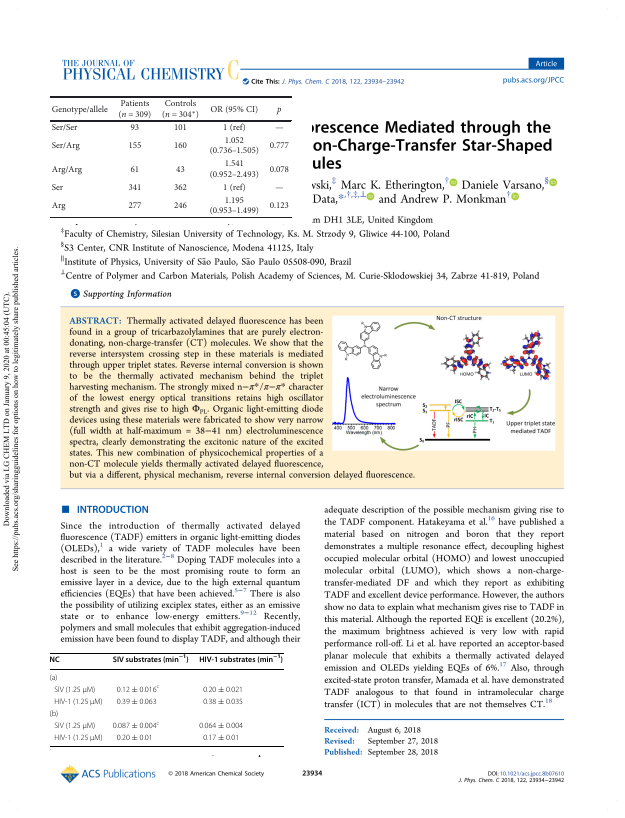borderless: (50, 95, 292, 218), (48, 651, 284, 746)
cell: (208, 136, 259, 157), (208, 159, 259, 180), (208, 196, 259, 217), (198, 654, 284, 664), (161, 99, 200, 120), (112, 654, 190, 664), (117, 99, 152, 120), (50, 104, 108, 115), (209, 104, 259, 115), (112, 720, 160, 731), (53, 697, 104, 707), (116, 684, 160, 695), (53, 734, 104, 743), (53, 685, 96, 695), (202, 685, 244, 695), (116, 697, 158, 707), (202, 697, 244, 707), (198, 722, 244, 731), (53, 722, 96, 731), (50, 164, 83, 175), (116, 734, 154, 743), (202, 734, 240, 743), (50, 141, 80, 151), (50, 123, 78, 133), (222, 123, 246, 133), (222, 183, 246, 193), (268, 164, 289, 175), (268, 201, 289, 212), (268, 141, 289, 151), (50, 201, 66, 212), (127, 201, 142, 212), (173, 201, 188, 212), (173, 123, 188, 133), (127, 141, 142, 151), (173, 141, 188, 151), (127, 183, 142, 193), (173, 183, 188, 193), (50, 183, 64, 193), (129, 164, 140, 175), (129, 123, 140, 133), (175, 164, 185, 175), (49, 655, 61, 664), (49, 673, 58, 683), (49, 710, 59, 719), (276, 106, 282, 115), (274, 127, 284, 131), (274, 187, 284, 191)
